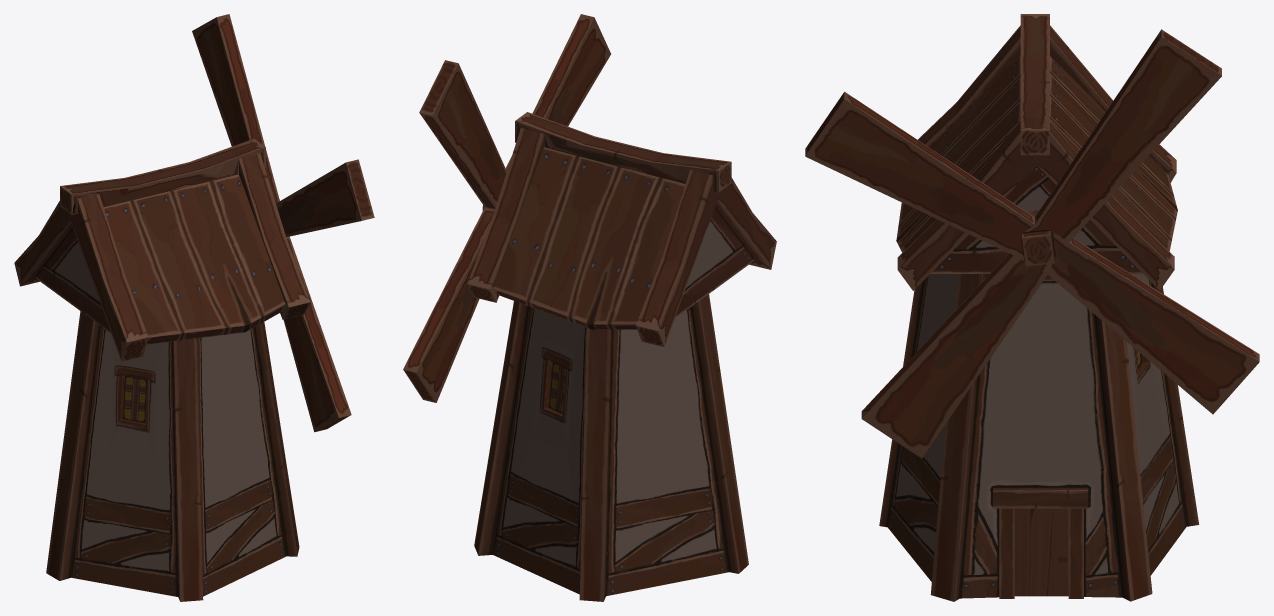
The model's file is windmill.glb.
3 renders of one model, left to right at view 1: azimuth 30°, elevation 25°; view 2: azimuth 150°, elevation 25°; view 3: azimuth 270°, elevation 25°, orthographic. The views are drawn at different scales.
Parts seen in each view (by area): view 1: Cylinder.001, Cube.001; view 2: Cylinder.001, Cube.001; view 3: Cylinder.001, Cube.001, Cube.005.
Part boxes in pixels (box(x1,y1,x2,y2)): Cylinder.001: box(14, 139, 310, 601); Cube.001: box(192, 14, 374, 432); Cylinder.001: box(467, 112, 776, 601); Cube.001: box(403, 14, 610, 402); Cylinder.001: box(879, 14, 1199, 601); Cube.001: box(805, 29, 1259, 458); Cube.005: box(1014, 508, 1068, 596).
Size of the model in its own units: 1.51 by 2.81 by 2.02.
3 materials, 3 textured.
